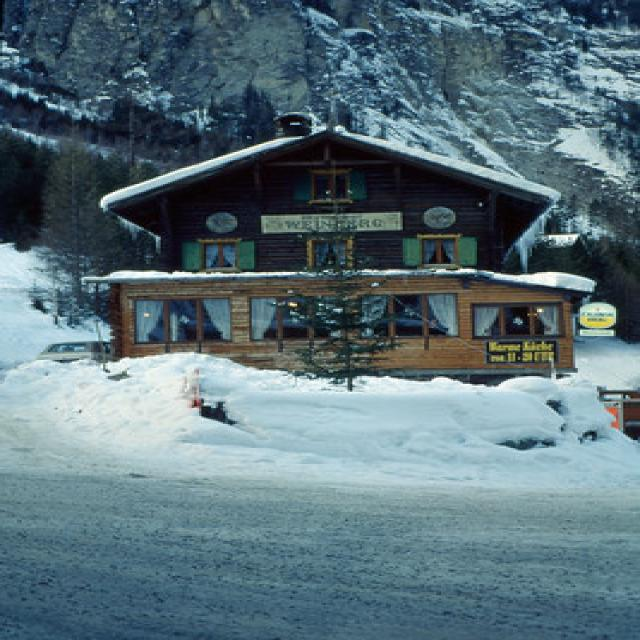Normal_building: (91, 123, 590, 384)
